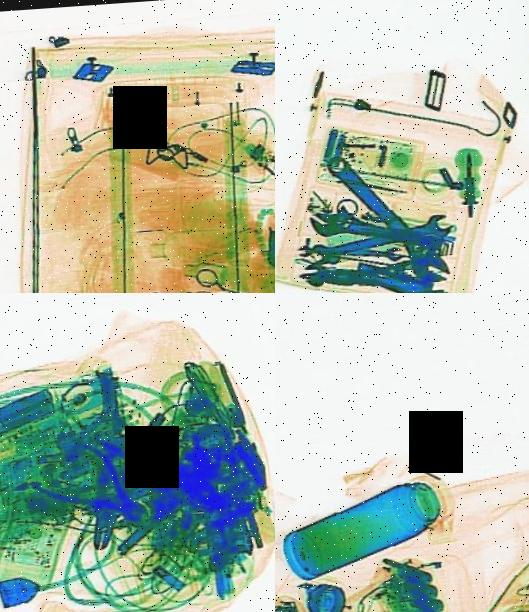Pliers: (26, 426, 169, 546), (97, 412, 225, 513), (75, 434, 152, 554)
Scissors: (189, 259, 273, 293)
Wrench: (319, 128, 458, 293), (308, 195, 442, 266), (310, 209, 454, 268), (356, 247, 450, 293), (303, 254, 386, 293)
